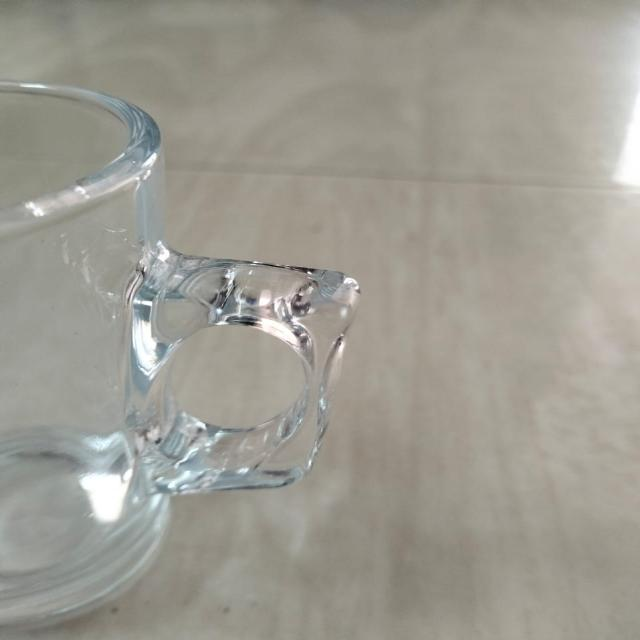glass-VX4N: (0, 73, 363, 640)
